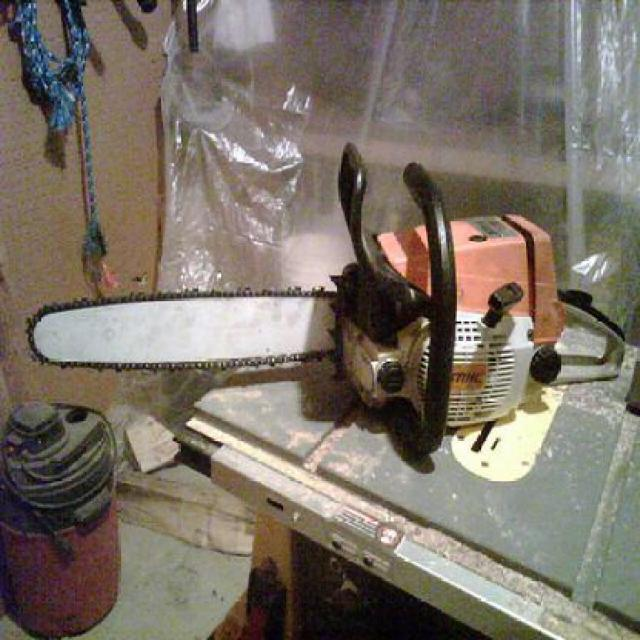Chainsaw: (31, 142, 595, 468)
